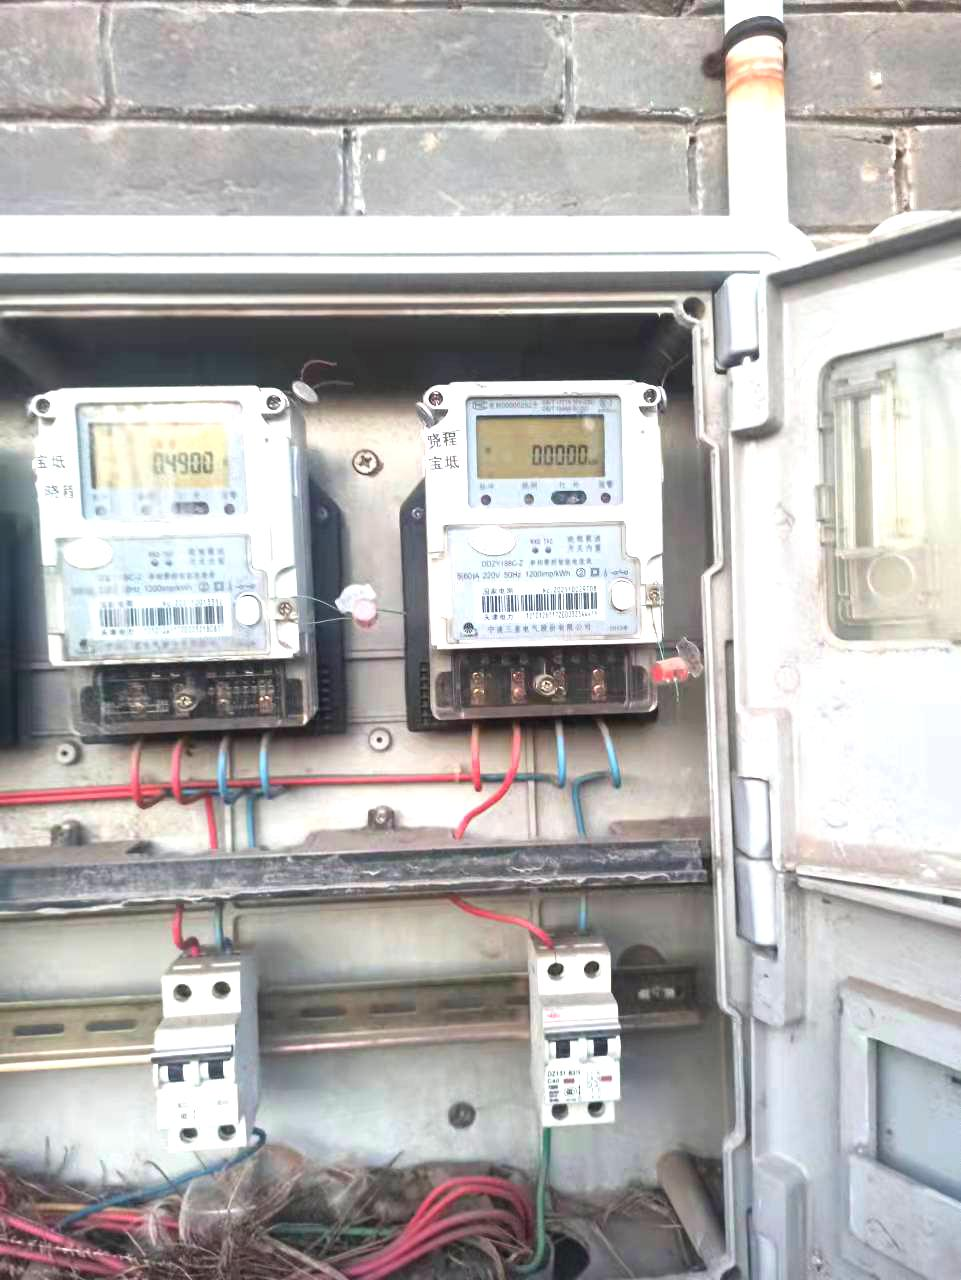digital: (30, 383, 299, 662), (425, 381, 665, 645)
